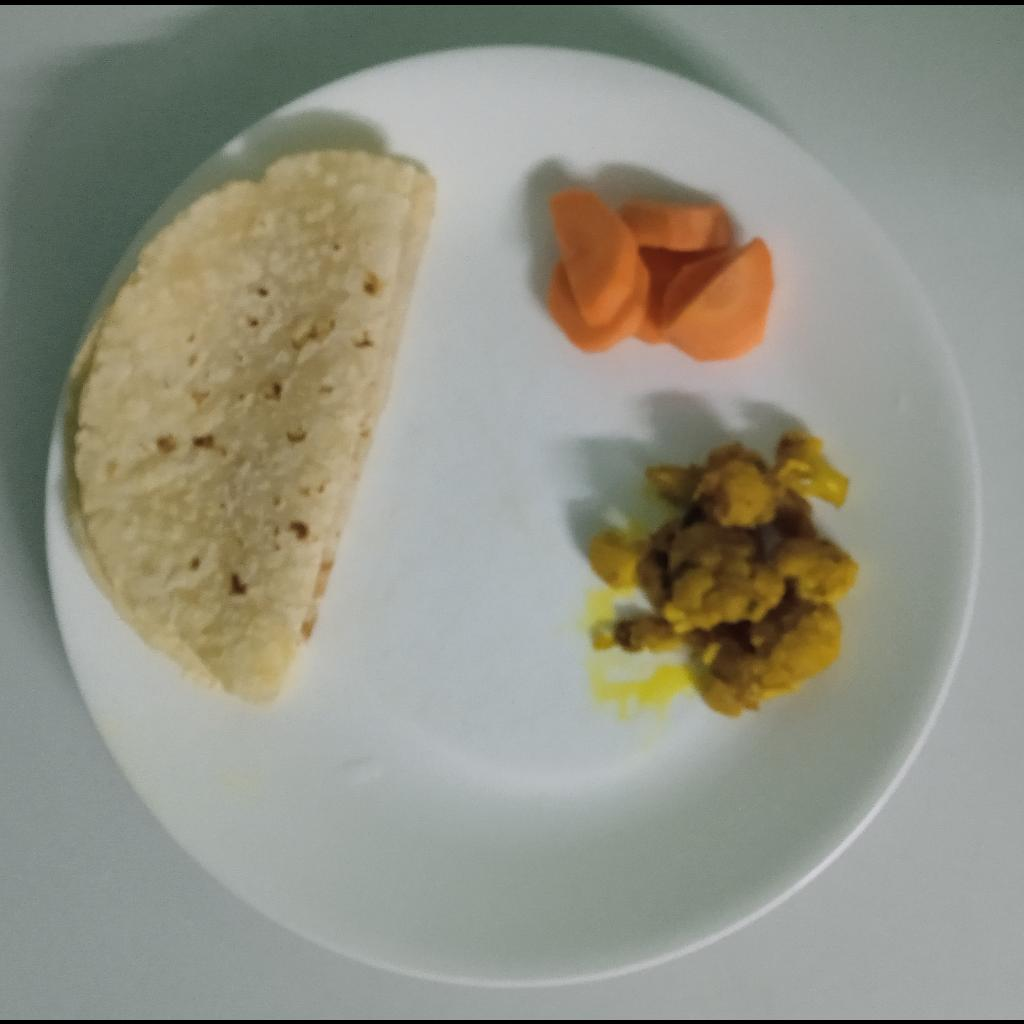carrot: (545, 186, 776, 363)
cauliflower: (592, 430, 857, 721)
ruti: (61, 151, 436, 706)
